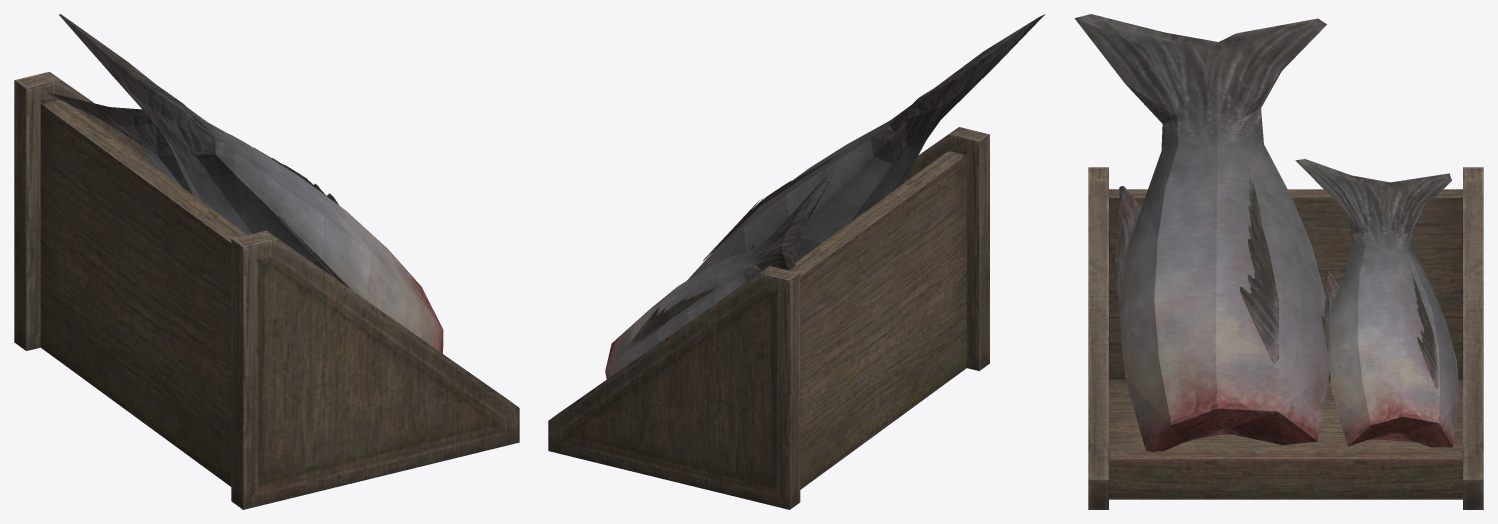
The model's file is bg_lut_mawport_storeprop03_sm_artree.FBX.
The picture shows the model from 3 angles, left to right: view 1: azimuth 30°, elevation 25°; view 2: azimuth 150°, elevation 25°; view 3: azimuth 270°, elevation 25°; orthographic projection. The views are drawn at different scales.
Visible parts, largest first — view 1: bg_lut_mawport_storeprop03_sm_artree; view 2: bg_lut_mawport_storeprop03_sm_artree; view 3: bg_lut_mawport_storeprop03_sm_artree.
Boxes of the visible parts, bbox=[...] form: bg_lut_mawport_storeprop03_sm_artree: bbox=[14, 14, 519, 509]; bg_lut_mawport_storeprop03_sm_artree: bbox=[548, 14, 1045, 509]; bg_lut_mawport_storeprop03_sm_artree: bbox=[1074, 14, 1483, 509].
Bounding box in the file's own units: 84.17 × 99.11 × 103.
